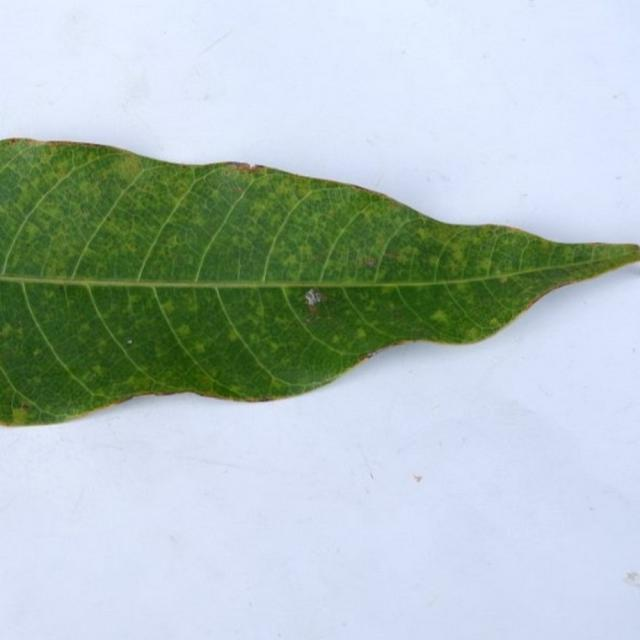Mango: (0, 139, 639, 424)
Powdery_Mildew: (26, 188, 99, 253), (73, 150, 185, 186), (424, 308, 460, 335), (441, 241, 472, 268), (110, 152, 146, 175), (302, 288, 326, 322), (472, 222, 519, 236), (39, 140, 98, 148), (1, 137, 37, 147), (430, 309, 450, 324), (54, 163, 71, 180), (380, 250, 405, 261), (297, 245, 314, 261), (12, 407, 29, 423), (123, 239, 138, 257), (229, 162, 255, 172), (23, 224, 40, 238), (349, 183, 374, 192), (0, 322, 14, 338), (306, 288, 320, 304), (227, 384, 247, 395), (285, 254, 299, 269), (166, 235, 181, 248), (390, 308, 406, 320), (465, 327, 480, 339), (480, 258, 493, 271), (176, 325, 190, 337), (162, 302, 175, 314), (227, 331, 240, 342), (354, 329, 367, 340), (193, 344, 206, 355), (91, 364, 104, 375), (252, 396, 275, 402), (364, 257, 376, 268), (78, 325, 91, 335), (497, 275, 511, 283), (30, 376, 41, 386), (268, 343, 279, 353), (489, 317, 501, 326), (32, 348, 41, 357), (332, 335, 341, 344), (234, 185, 244, 193), (304, 316, 313, 324), (252, 164, 266, 169), (22, 403, 30, 411), (366, 352, 374, 358), (127, 339, 132, 344)
